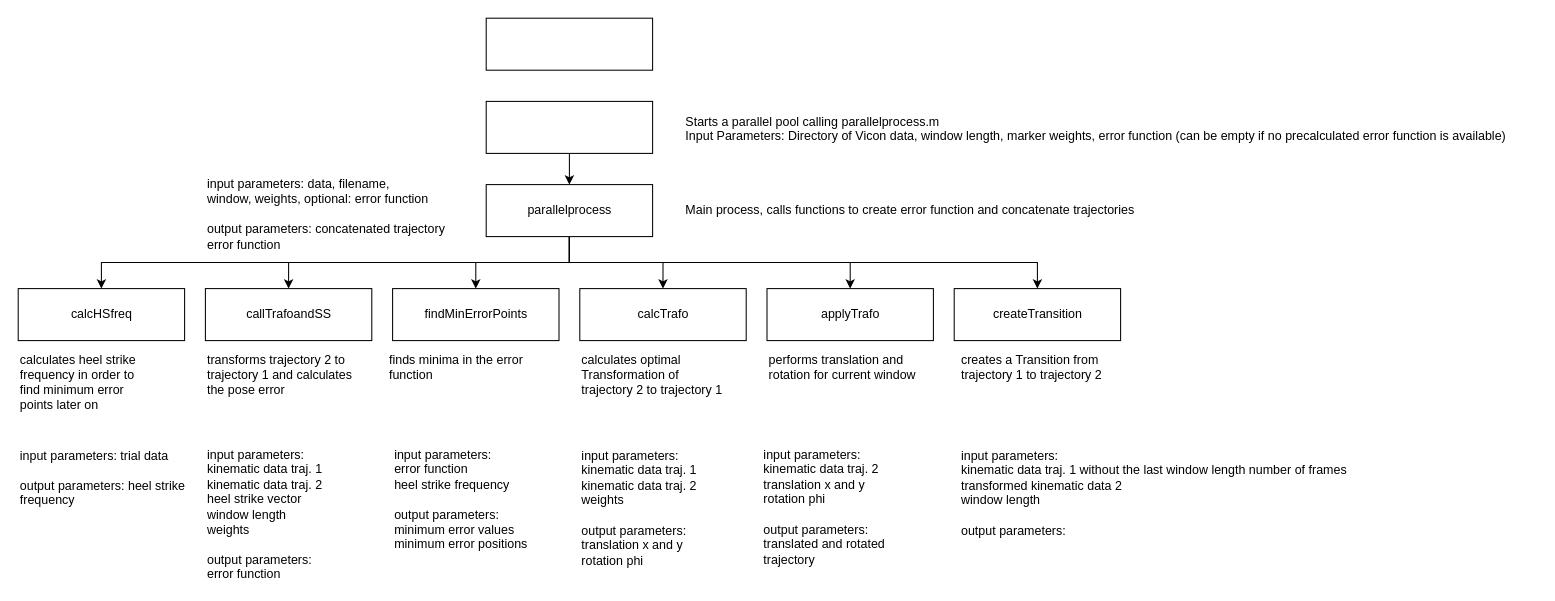
The diagram is 1555 pixels wide and 601 high, and some of its shapes have lost their labels. Here are the shapes that lost their labels. From the top down, the centre of each, then its label:
At [569,43]: "Concatenation".
At [569,126]: "concatTraj_parallel".
